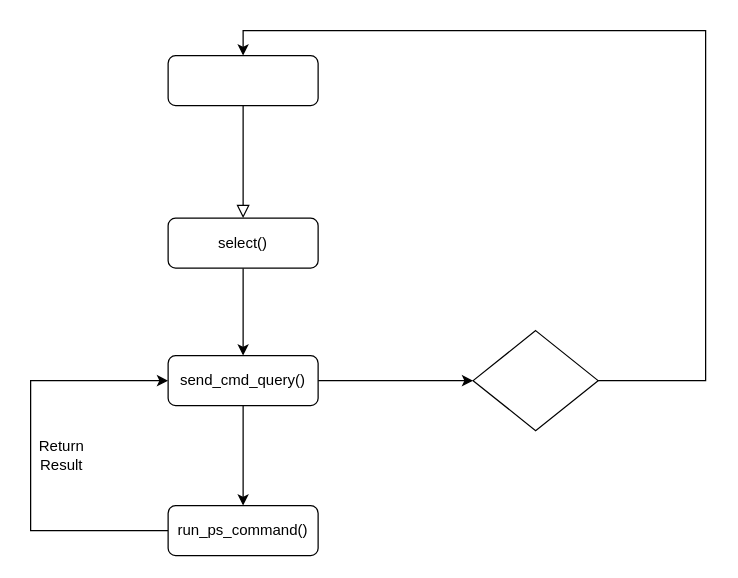
The diagram is 738 pixels wide and 578 high, and some of its shapes have lost their labels. Here are the shapes that lost their labels. From the top down, the box of each, then its label:
(167, 54, 318, 106): list()
(472, 329, 598, 431): cmd == "quit"
